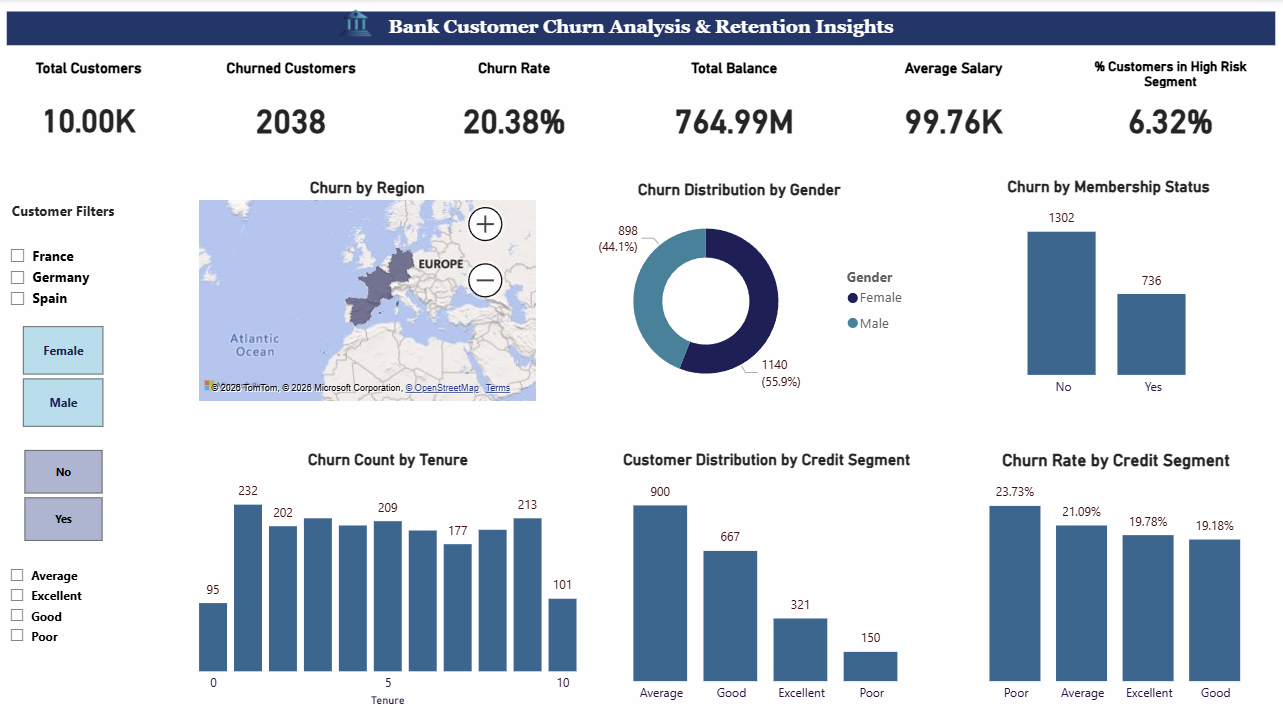

This screenshot's page, from the dashboard's own definition file:
{"tool":"powerbi","page":{"name":"Page 1","canvas":[1280,720],"ordinal":0},"visuals":[{"type":"textbox","box":[8.7,12.4,1262.6,33.6],"z":0},{"type":"image","box":[334.6,1.2,42.3,44.8],"z":1000},{"type":"card","title":"Total Customers","fields":{"Values":["CountNonNull(Customer_Info.CustomerId)"]},"box":[8.7,59.7,163,102],"z":2000},{"type":"card","title":"Churned Customers","fields":{"Values":["Sum(Account_Info.Exited)"]},"box":[195.3,59.7,192.8,102],"z":3000},{"type":"card","title":"Churn Rate","fields":{"Values":["Account_Info.Churn Rate"]},"box":[419.2,59.7,189.1,102],"z":4000},{"type":"card","title":"Total Balance","fields":{"Values":["Sum(Account_Info.Balance)"]},"box":[639.4,59.7,186.6,102],"z":5000},{"type":"card","title":"Average Salary","fields":{"Values":["Avg(Customer_Info.EstimatedSalary)"]},"box":[842.2,59.7,217.7,102],"z":6000},{"type":"clusteredColumnChart","title":"Churn by Membership Status","fields":{"Category":["Account_Info.IsActiveMember"],"Y":["Sum(Account_Info.Exited)"]},"box":[939.2,177.9,332.1,226.4],"z":7000},{"type":"donutChart","title":"Churn Distribution by Gender","fields":{"Category":["Customer_Info.Gender"],"Y":["Sum(Account_Info.Exited)"]},"box":[559.8,180.4,355.8,223.9],"z":8000},{"type":"clusteredColumnChart","title":"Churn Count by Tenure","fields":{"Category":["Customer_Info.Tenure"],"Y":["Sum(Account_Info.Exited)"]},"box":[195.3,449.1,385.6,260],"z":9000},{"type":"clusteredColumnChart","title":"Customer Distribution by Credit Segment","fields":{"Category":["Customer_Info.Credit Score Group"],"Y":["Sum(Account_Info.Exited)"]},"box":[599.6,449.1,330.9,260],"z":10000},{"type":"clusteredColumnChart","title":"Churn Rate by Credit Segment","fields":{"Category":["Customer_Info.Credit Score Group"],"Y":["Customer_Info.Churn Rate %"]},"box":[955.4,449.1,314.7,260],"z":11000},{"type":"filledMap","title":"Churn by Region","fields":{"Category":["Customer_Info.Geography"]},"box":[195.3,179.1,344.6,225.2],"z":12000},{"type":"card","title":"% Customers in High Risk Segment","fields":{"Values":["Customer_Info.High Risk %"]},"box":[1082.2,59.7,169.2,90.8],"z":13000},{"type":"slicer","title":"Region","fields":{"Values":["Customer_Info.Geography"]},"box":[0,240.1,128.1,78.4],"z":15000},{"type":"slicer","title":"Gender","fields":{"Values":["Customer_Info.Gender"]},"box":[0,318.5,128.1,114.4],"z":16000},{"type":"slicer","title":"Membership","fields":{"Values":["Account_Info.IsActiveMember"]},"box":[0,441.6,128.1,104.5],"z":17000},{"type":"slicer","title":"Credit Risk Segment","fields":{"Values":["Customer_Info.Credit Score Group"]},"box":[0,558.5,128.1,95.8],"z":18000},{"type":"textbox","box":[8.7,196.5,149.3,29.9],"z":18001}]}

Visuals, with their boxes in screenshot pixels (x1, y1, x2, y2), scaled from the page's 1280x720 canvas onto the 1283x718 screenshot:
textbox: box=[9, 12, 1274, 46]
image: box=[335, 1, 378, 46]
"Total Customers" card: box=[9, 60, 172, 161]
"Churned Customers" card: box=[196, 60, 389, 161]
"Churn Rate" card: box=[420, 60, 610, 161]
"Total Balance" card: box=[641, 60, 828, 161]
"Average Salary" card: box=[844, 60, 1062, 161]
"Churn by Membership Status" clusteredColumnChart: box=[941, 177, 1274, 403]
"Churn Distribution by Gender" donutChart: box=[561, 180, 918, 403]
"Churn Count by Tenure" clusteredColumnChart: box=[196, 448, 582, 707]
"Customer Distribution by Credit Segment" clusteredColumnChart: box=[601, 448, 933, 707]
"Churn Rate by Credit Segment" clusteredColumnChart: box=[958, 448, 1273, 707]
"Churn by Region" filledMap: box=[196, 179, 541, 403]
"% Customers in High Risk Segment" card: box=[1085, 60, 1254, 150]
"Region" slicer: box=[0, 239, 128, 318]
"Gender" slicer: box=[0, 318, 128, 432]
"Membership" slicer: box=[0, 440, 128, 545]
"Credit Risk Segment" slicer: box=[0, 557, 128, 652]
textbox: box=[9, 196, 158, 226]
